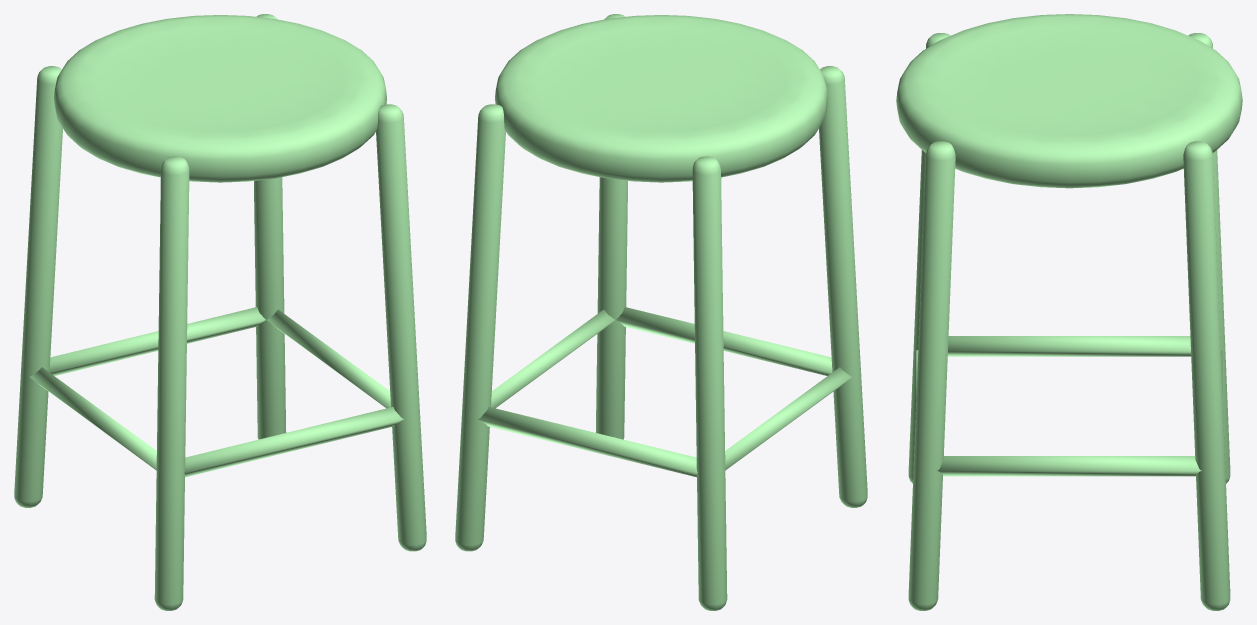
File: Stool2 fbx.fbx
The picture shows the model from 3 angles, left to right: view 1: azimuth 30°, elevation 25°; view 2: azimuth 150°, elevation 25°; view 3: azimuth 270°, elevation 25°; orthographic projection. The views are drawn at different scales.
Parts seen in each view (by area): view 1: RealDWGPart; view 2: RealDWGPart; view 3: RealDWGPart.
Boxes of the visible parts, bbox=[...] form: RealDWGPart: bbox=[14, 14, 426, 610]; RealDWGPart: bbox=[455, 14, 867, 610]; RealDWGPart: bbox=[896, 14, 1242, 610].
Size of the model in its own units: 24.15 by 35.79 by 24.15.
